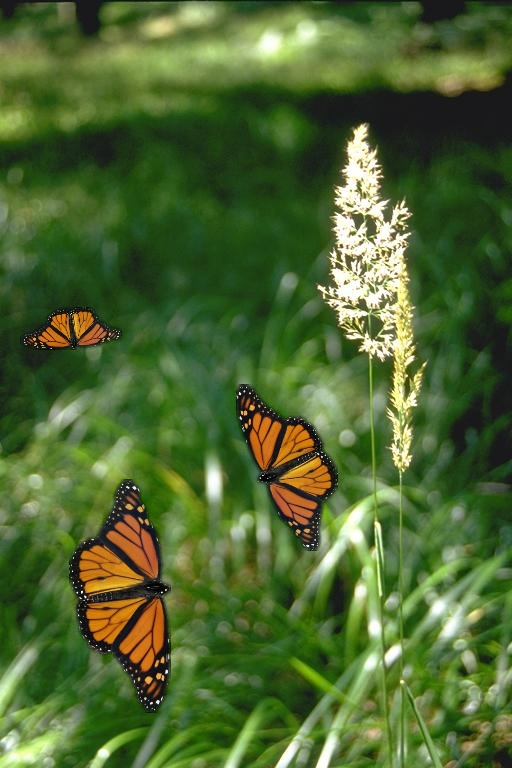danaus_plexippus: (69, 479, 171, 713), (236, 384, 338, 551), (20, 307, 122, 350)
